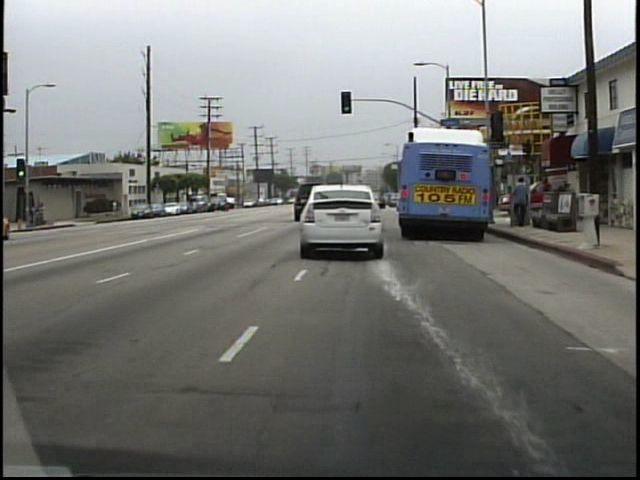person: (507, 174, 530, 231), (111, 196, 121, 218)
